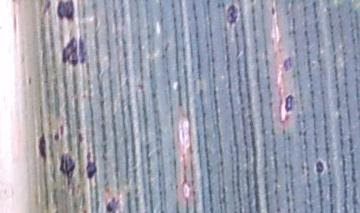tarspot: (60, 34, 89, 68), (55, 154, 78, 179), (34, 131, 50, 161), (80, 157, 100, 179), (222, 2, 240, 26), (102, 195, 122, 213), (312, 156, 327, 177), (282, 91, 296, 113), (280, 55, 295, 72), (51, 131, 61, 141)
